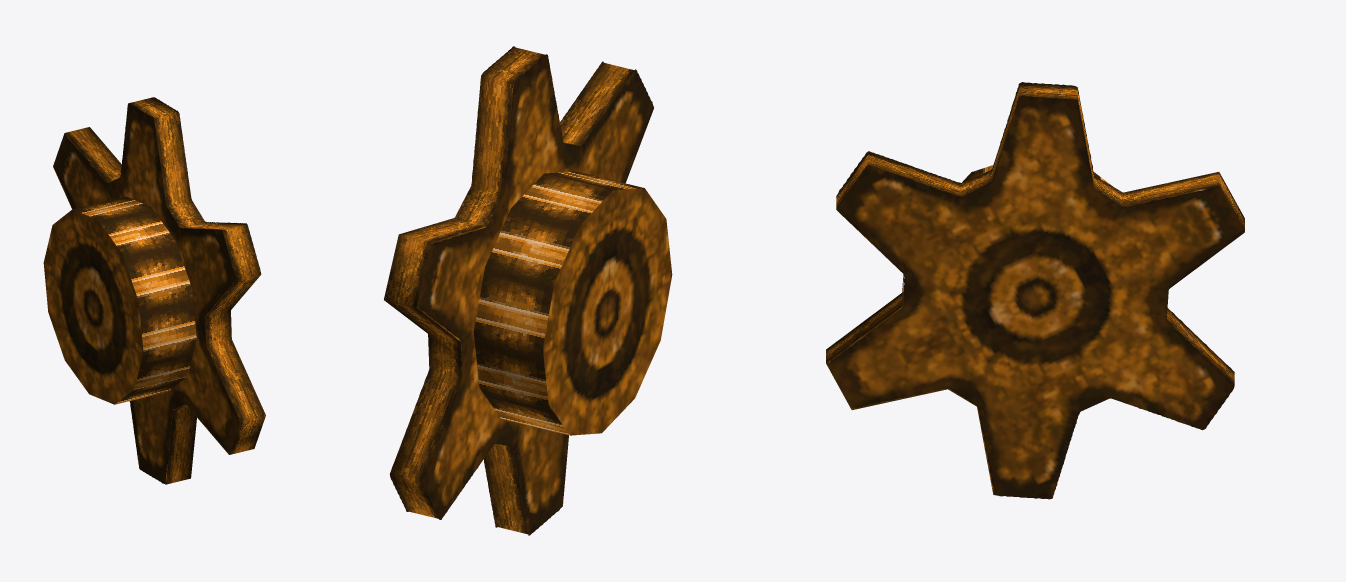
The model's file is INST_PUZZLE_PIECE1_PIECE1_COPPER.fbx.
3 views of the same model, side by side, from view 1: azimuth 30°, elevation 25°; view 2: azimuth 150°, elevation 25°; view 3: azimuth 270°, elevation 25° (orthographic). The views are drawn at different scales.
Parts seen in each view (by area): view 1: INST_PUZZLE_PIECE1_PIECE1_COPPER; view 2: INST_PUZZLE_PIECE1_PIECE1_COPPER; view 3: INST_PUZZLE_PIECE1_PIECE1_COPPER.
Boxes of the visible parts, <box> form: INST_PUZZLE_PIECE1_PIECE1_COPPER: <box>43,97,265,484</box>; INST_PUZZLE_PIECE1_PIECE1_COPPER: <box>384,46,672,535</box>; INST_PUZZLE_PIECE1_PIECE1_COPPER: <box>826,82,1244,499</box>.
Bounding box in the file's own units: 783 × 4613 × 4588.
Materials: 3 (3 with a texture image).
